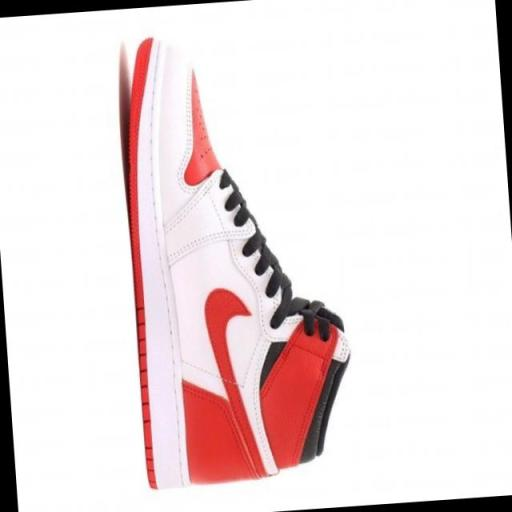Nike: (197, 277, 264, 467)
